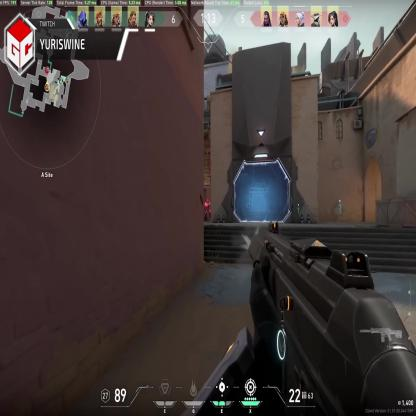enemy: (204, 197, 212, 223)
enemy_head: (207, 199, 209, 202)
